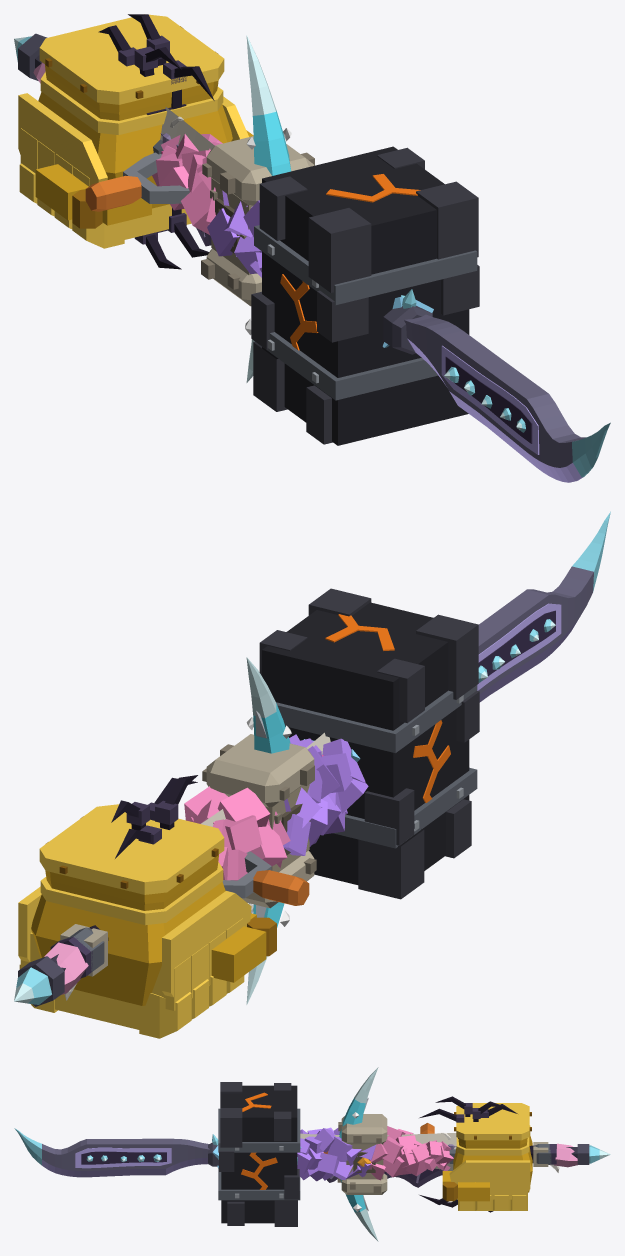
File: w3_weapons.fbx
The picture shows the model from 3 angles, top to bottom: view 1: azimuth 30°, elevation 25°; view 2: azimuth 150°, elevation 25°; view 3: azimuth 270°, elevation 25°; orthographic projection. The views are drawn at different scales.
Parts seen in each view (by area): view 1: EmberCoalMaul.Coal, EmberCoalMaul.Chunks, GoldGauntlets.Bands, EmberCoalMaul.Bands, GeodeGlaive.Rind, PebbleMallet.Ends, GoldGauntlets.Hand, RockCandyClub.CandyPink, GoldGauntlets.BackPlate, QueensFang.Legs, GoldGauntletsLeft.Thumb, GoldGauntlets.Cuff (+19 smaller); view 2: EmberCoalMaul.Coal, EmberCoalMaul.Chunks, GoldGauntlets.Bands, GoldGauntlets.Hand, EmberCoalMaul.Bands, RockCandyClub.CandyPurple, PebbleMallet.Ends, RockCandyClub.CandyPink, GeodeGlaive.Rind, GoldGauntlets.BackPlate, GoldGauntletsLeft.Fingers, GoldGauntlets.Knuckles (+20 smaller); view 3: EmberCoalMaul.Coal, EmberCoalMaul.Chunks, GoldGauntlets.Bands, RockCandyClub.CandyPurple, RockCandyClub.CandyPink, GeodeGlaive.Rind, EmberCoalMaul.Bands, PebbleMallet.Ends, GoldGauntletsLeft.BackPlate, GeodeGlaive.Edge, GeodeGlaive.Agate, GoldGauntletsLeft.Knuckles (+19 smaller).
Boxes of the visible parts, x1,y1,x2,y2 form: EmberCoalMaul.Coal: (262,146,469,445); EmberCoalMaul.Chunks: (251,147,479,444); GoldGauntlets.Bands: (39,14,224,134); EmberCoalMaul.Bands: (254,225,477,400); GeodeGlaive.Rind: (404,314,585,467); PebbleMallet.Ends: (206,136,314,306); GoldGauntlets.Hand: (38,91,232,208); RockCandyClub.CandyPink: (152,134,222,234); GoldGauntlets.BackPlate: (18,93,107,222); QueensFang.Legs: (98,14,214,269); GoldGauntletsLeft.Thumb: (35,164,151,225); GoldGauntlets.Cuff: (45,65,218,120); EmberCoalMaul.Coal: (262,602,469,884); EmberCoalMaul.Chunks: (259,588,479,899); GoldGauntlets.Bands: (39,804,224,925); GoldGauntlets.Hand: (31,882,225,1005); EmberCoalMaul.Bands: (276,685,477,848); RockCandyClub.CandyPurple: (283,734,368,855); PebbleMallet.Ends: (206,734,314,908); RockCandyClub.CandyPink: (184,786,290,880); GeodeGlaive.Rind: (478,566,593,693); GoldGauntlets.BackPlate: (162,891,251,998); GoldGauntletsLeft.Fingers: (55,918,243,1029); GoldGauntlets.Knuckles: (139,975,244,1038); EmberCoalMaul.Coal: (221,1085,297,1223); EmberCoalMaul.Chunks: (219,1082,299,1226); GoldGauntlets.Bands: (456,1103,529,1155); RockCandyClub.CandyPurple: (297,1127,375,1181); RockCandyClub.CandyPink: (369,1126,453,1180); GeodeGlaive.Rind: (42,1138,209,1170); EmberCoalMaul.Bands: (218,1108,300,1200); PebbleMallet.Ends: (341,1114,387,1194); GoldGauntletsLeft.BackPlate: (449,1160,530,1199); GeodeGlaive.Edge: (42,1158,207,1177); GeodeGlaive.Agate: (75,1147,171,1168); GoldGauntletsLeft.Knuckles: (458,1192,527,1210).
Bounding box in the file's own units: 2.03 × 3.3 × 10.22.
